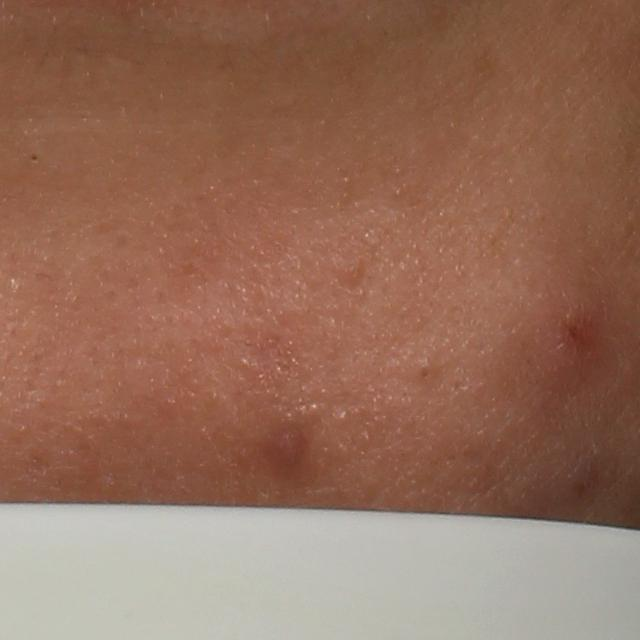comedo: (411, 355, 443, 389)
